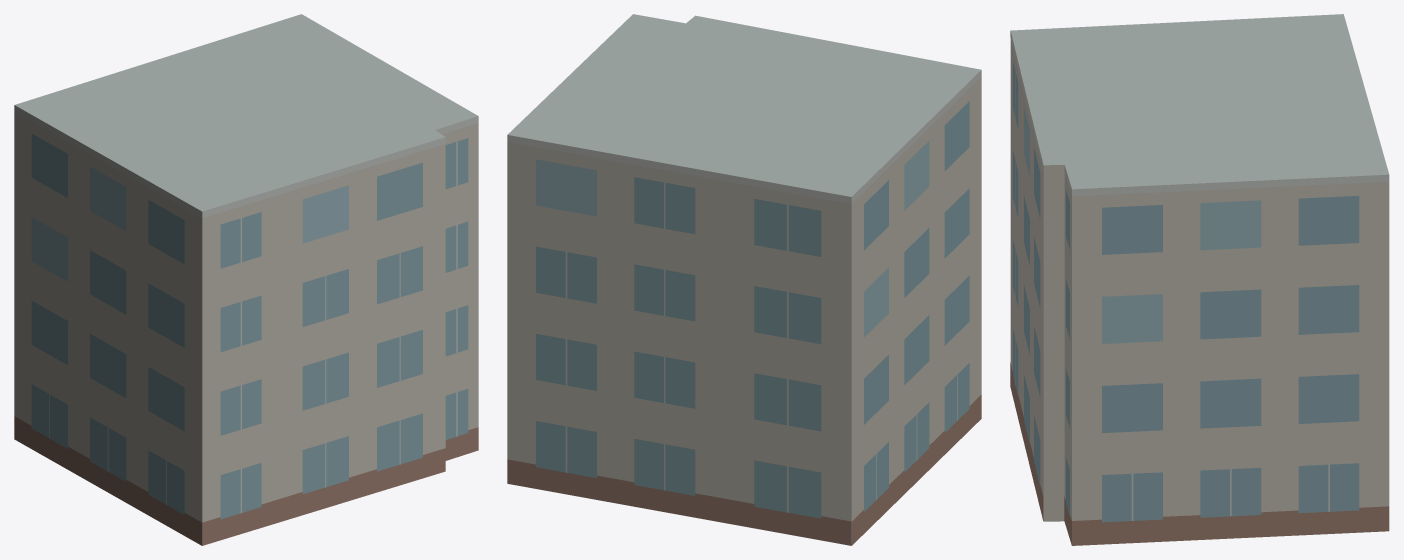
The model's file is survey-upis-32661200.glb.
3 renders of one model, left to right at view 1: azimuth 30°, elevation 25°; view 2: azimuth 150°, elevation 25°; view 3: azimuth 270°, elevation 25°, orthographic. The views are drawn at different scales.
Visible parts, largest first — view 1: survey-upis-32661200.tmp; view 2: survey-upis-32661200.tmp; view 3: survey-upis-32661200.tmp.
Part boxes in pixels (bbox=[...]): survey-upis-32661200.tmp: bbox=[14, 14, 478, 545]; survey-upis-32661200.tmp: bbox=[507, 14, 981, 545]; survey-upis-32661200.tmp: bbox=[1010, 14, 1389, 545].
Bounding box in the file's own units: 12.87 × 12.2 × 11.76.
